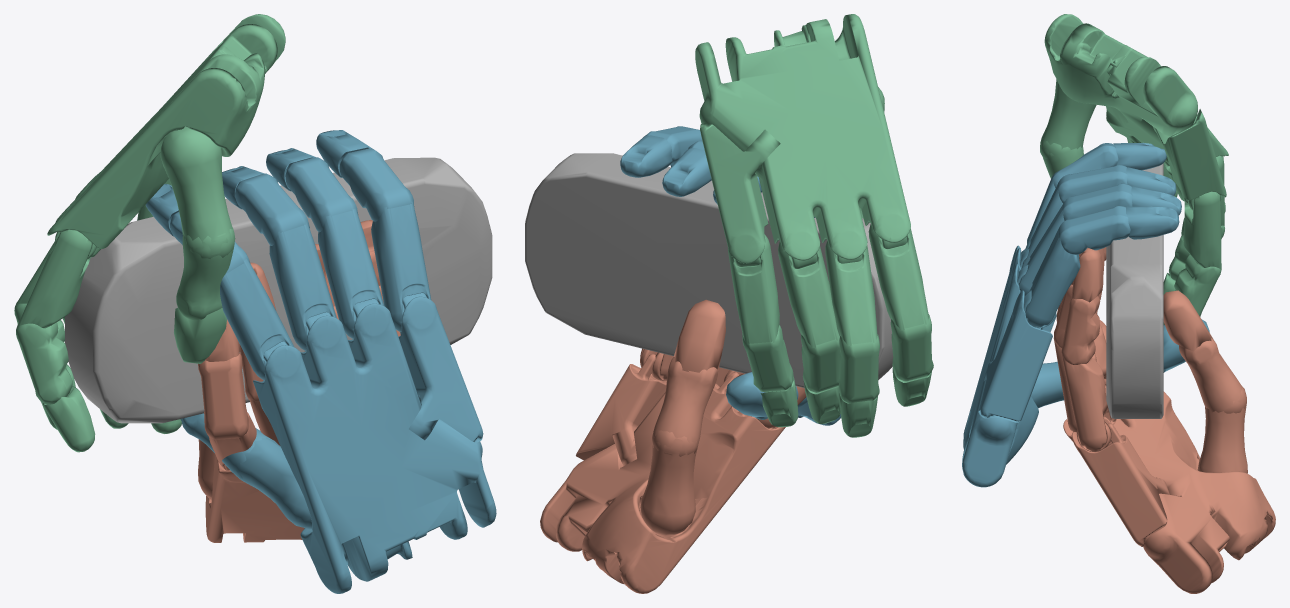
The picture shows the model from 3 angles, left to right: view 1: azimuth 30°, elevation 25°; view 2: azimuth 150°, elevation 25°; view 3: azimuth 270°, elevation 25°; orthographic projection. The views are drawn at different scales.
Size of the model in its own units: 0.2178 by 0.2717 by 0.1613.
